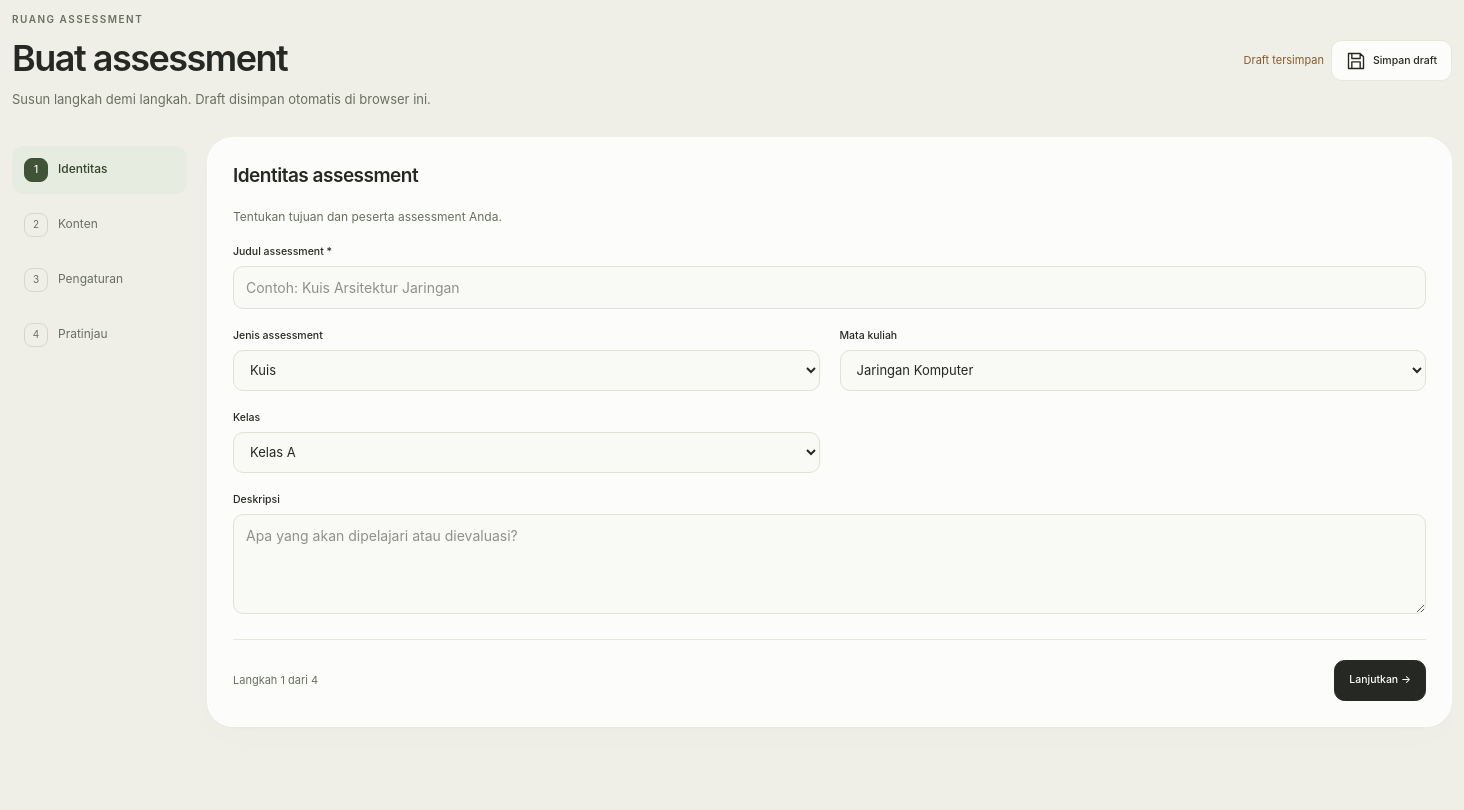
Test case: unfinished assessment recovery › flushes the last keystroke before refresh without warning after a successful write
Type "Sebelum refresh" into the field with placeholder "Contoh: Kuis Arsitektur Jaringan" at (830, 287), box [233, 266, 1426, 309]
Wait 1000 ms
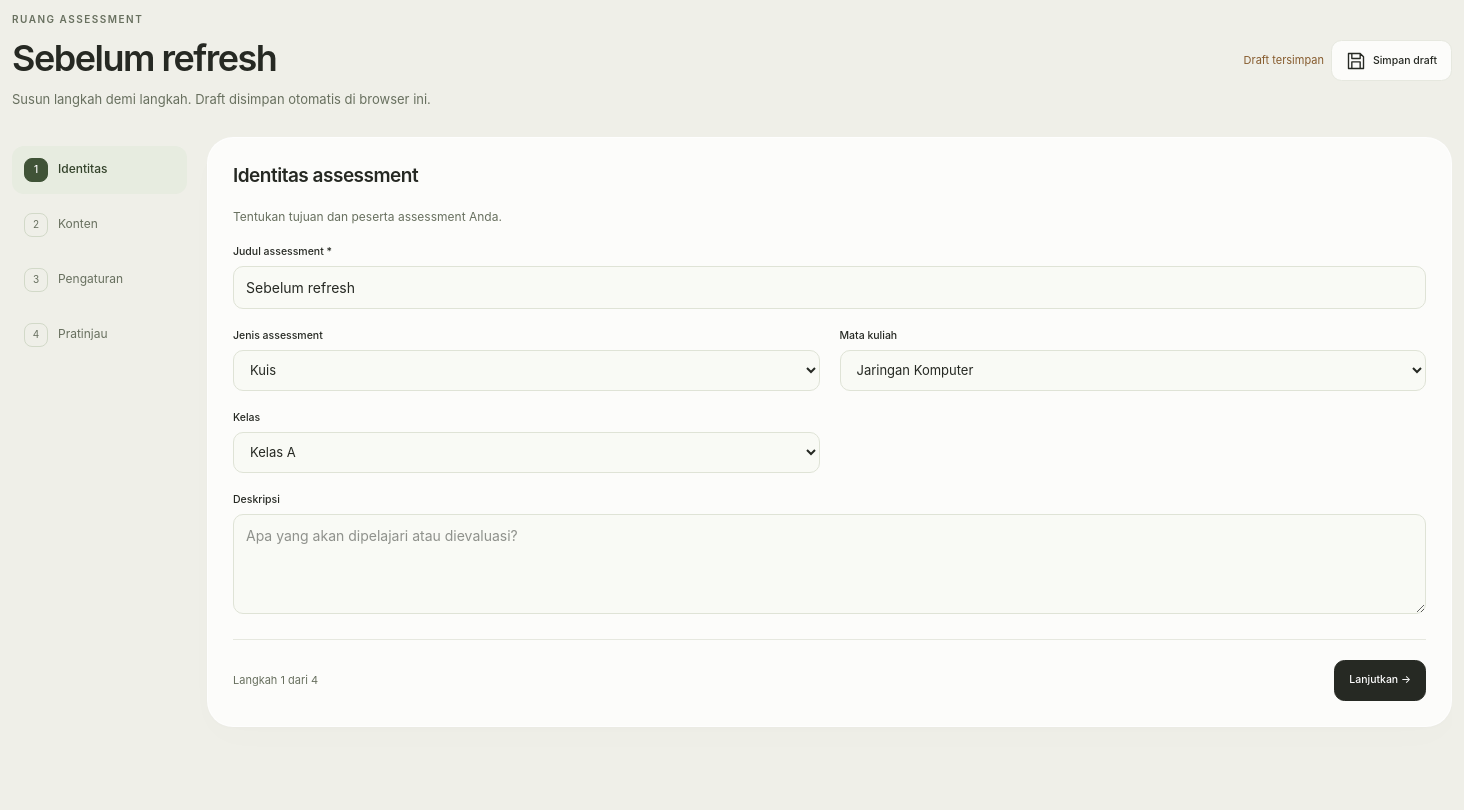
Now the heading "Sebelum refresh" is shown, box [12, 36, 276, 80]
